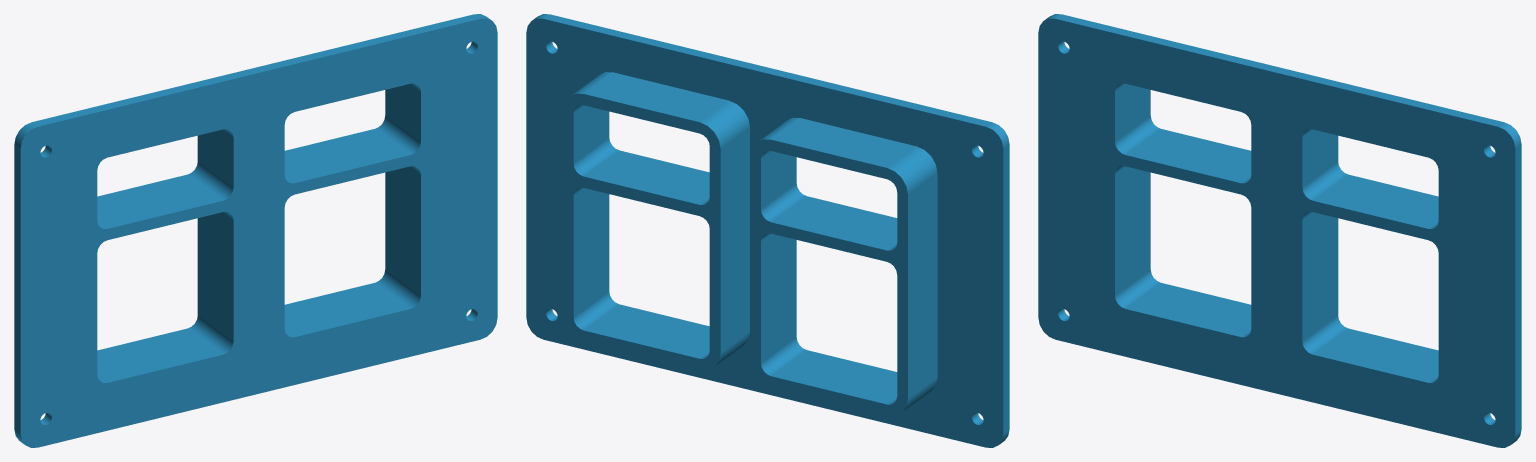
The picture shows the model from 3 angles, left to right: view 1: azimuth 30°, elevation 25°; view 2: azimuth 150°, elevation 25°; view 3: azimuth 330°, elevation 25°; orthographic projection.
Visible parts, largest first — view 1: mesh6938, mesh6948, mesh6923, mesh6929, mesh6925, mesh6943, mesh6950, mesh6900, mesh6894, mesh6941, mesh6935, mesh6937 (+3 smaller); view 2: mesh6893, mesh6921, mesh6939, mesh6917, mesh6909, mesh6923, mesh6948, mesh6943, mesh6950, mesh6925, mesh6929, mesh6907 (+11 smaller); view 3: mesh6938, mesh6927, mesh6952, mesh6943, mesh6950, mesh6925, mesh6929, mesh6900, mesh6898, mesh6931, mesh6945, mesh6944 (+3 smaller).
Part boxes in pixels (x1,y1,x2,y2): mesh6938: [20, 18, 497, 447]; mesh6948: [197, 212, 233, 340]; mesh6923: [385, 166, 420, 295]; mesh6929: [284, 129, 410, 182]; mesh6925: [284, 283, 410, 336]; mesh6943: [97, 174, 222, 228]; mesh6950: [97, 328, 222, 382]; mesh6900: [32, 14, 479, 126]; mesh6894: [14, 144, 20, 433]; mesh6941: [197, 129, 233, 187]; mesh6935: [385, 84, 420, 141]; mesh6937: [375, 116, 420, 154]; mesh6893: [526, 18, 1003, 447]; mesh6921: [562, 93, 720, 370]; mesh6939: [750, 139, 907, 415]; mesh6917: [908, 173, 937, 398]; mesh6909: [720, 128, 749, 352]; mesh6923: [573, 188, 609, 316]; mesh6948: [761, 234, 796, 362]; mesh6943: [771, 196, 897, 250]; mesh6950: [771, 350, 897, 404]; mesh6925: [584, 304, 709, 358]; mesh6929: [584, 150, 709, 204]; mesh6907: [584, 72, 728, 121]; mesh6938: [1038, 18, 1515, 447]; mesh6927: [1302, 212, 1338, 340]; mesh6952: [1115, 166, 1150, 295]; mesh6943: [1125, 129, 1251, 182]; mesh6950: [1125, 283, 1251, 336]; mesh6925: [1313, 328, 1438, 382]; mesh6929: [1313, 174, 1438, 228]; mesh6900: [1056, 14, 1503, 126]; mesh6898: [1515, 144, 1521, 433]; mesh6931: [1302, 129, 1338, 187]; mesh6945: [1115, 84, 1150, 141]; mesh6944: [1115, 116, 1160, 154].
Bounding box in the file's own units: 0.14 × 0.09 × 0.0182.
